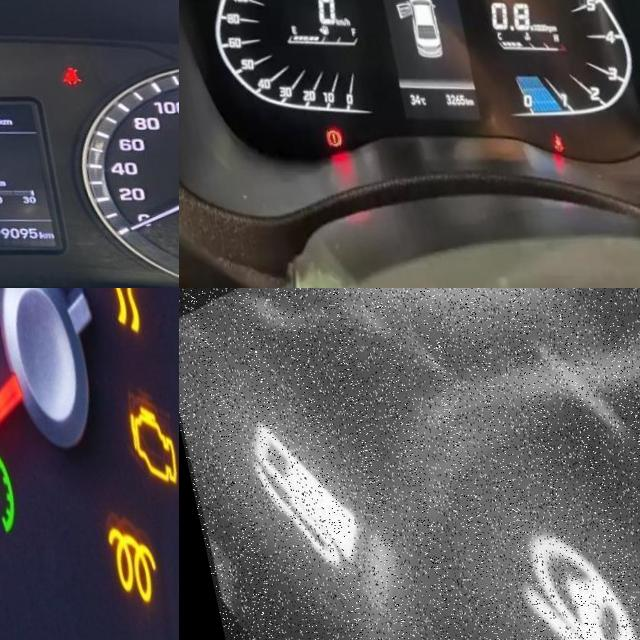Electronic Power Steering: (448, 487, 640, 640)
Seat Belt: (52, 68, 73, 89), (531, 137, 546, 155)
